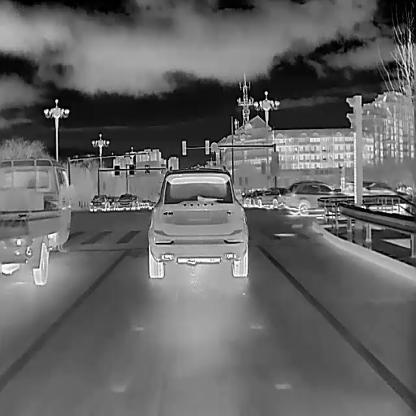car: (147, 165, 249, 279), (285, 180, 349, 216), (360, 180, 408, 202), (257, 186, 285, 207), (89, 193, 109, 212), (115, 192, 134, 210), (250, 190, 264, 206)
truck: (0, 158, 72, 285)
